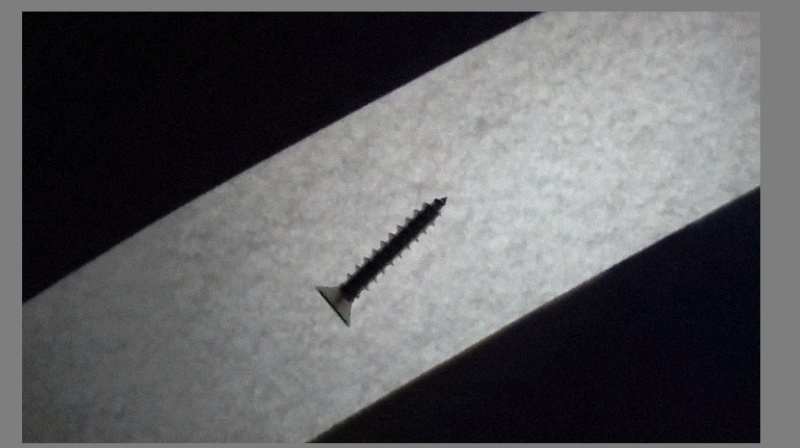S001: (309, 192, 452, 330)
